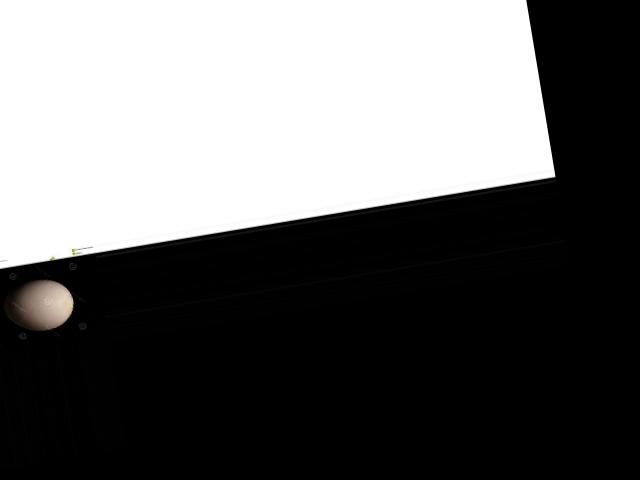egg: (0, 273, 78, 336)
